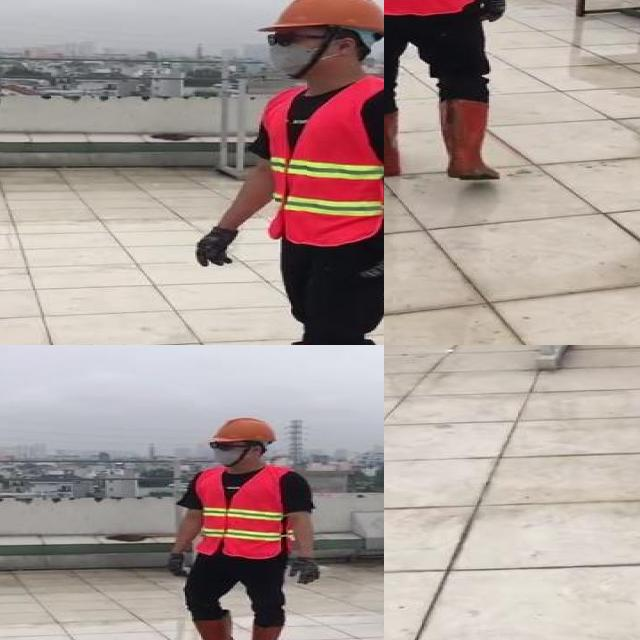boots: (432, 95, 512, 180), (183, 613, 236, 640), (384, 110, 402, 176), (242, 626, 281, 640)
face_mask: (261, 26, 330, 74), (206, 438, 248, 464)
glasses: (256, 29, 312, 52), (206, 439, 244, 453)
hand_glove: (196, 226, 238, 268), (360, 250, 384, 299), (288, 555, 320, 587), (164, 552, 190, 579), (478, 0, 504, 24)
head_helmet: (257, 0, 384, 37), (212, 416, 278, 444)
person: (182, 0, 384, 345), (160, 411, 323, 640), (384, 0, 531, 188)
vest: (262, 81, 384, 244), (194, 467, 288, 557)
